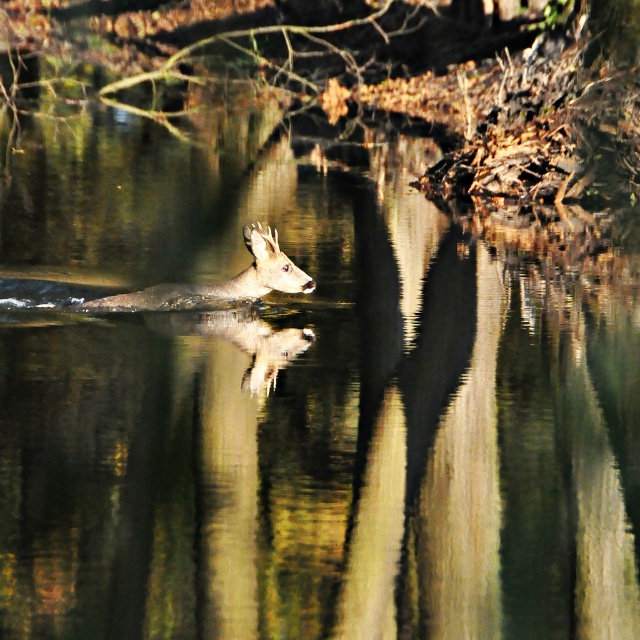Deer: (74, 220, 317, 314)
